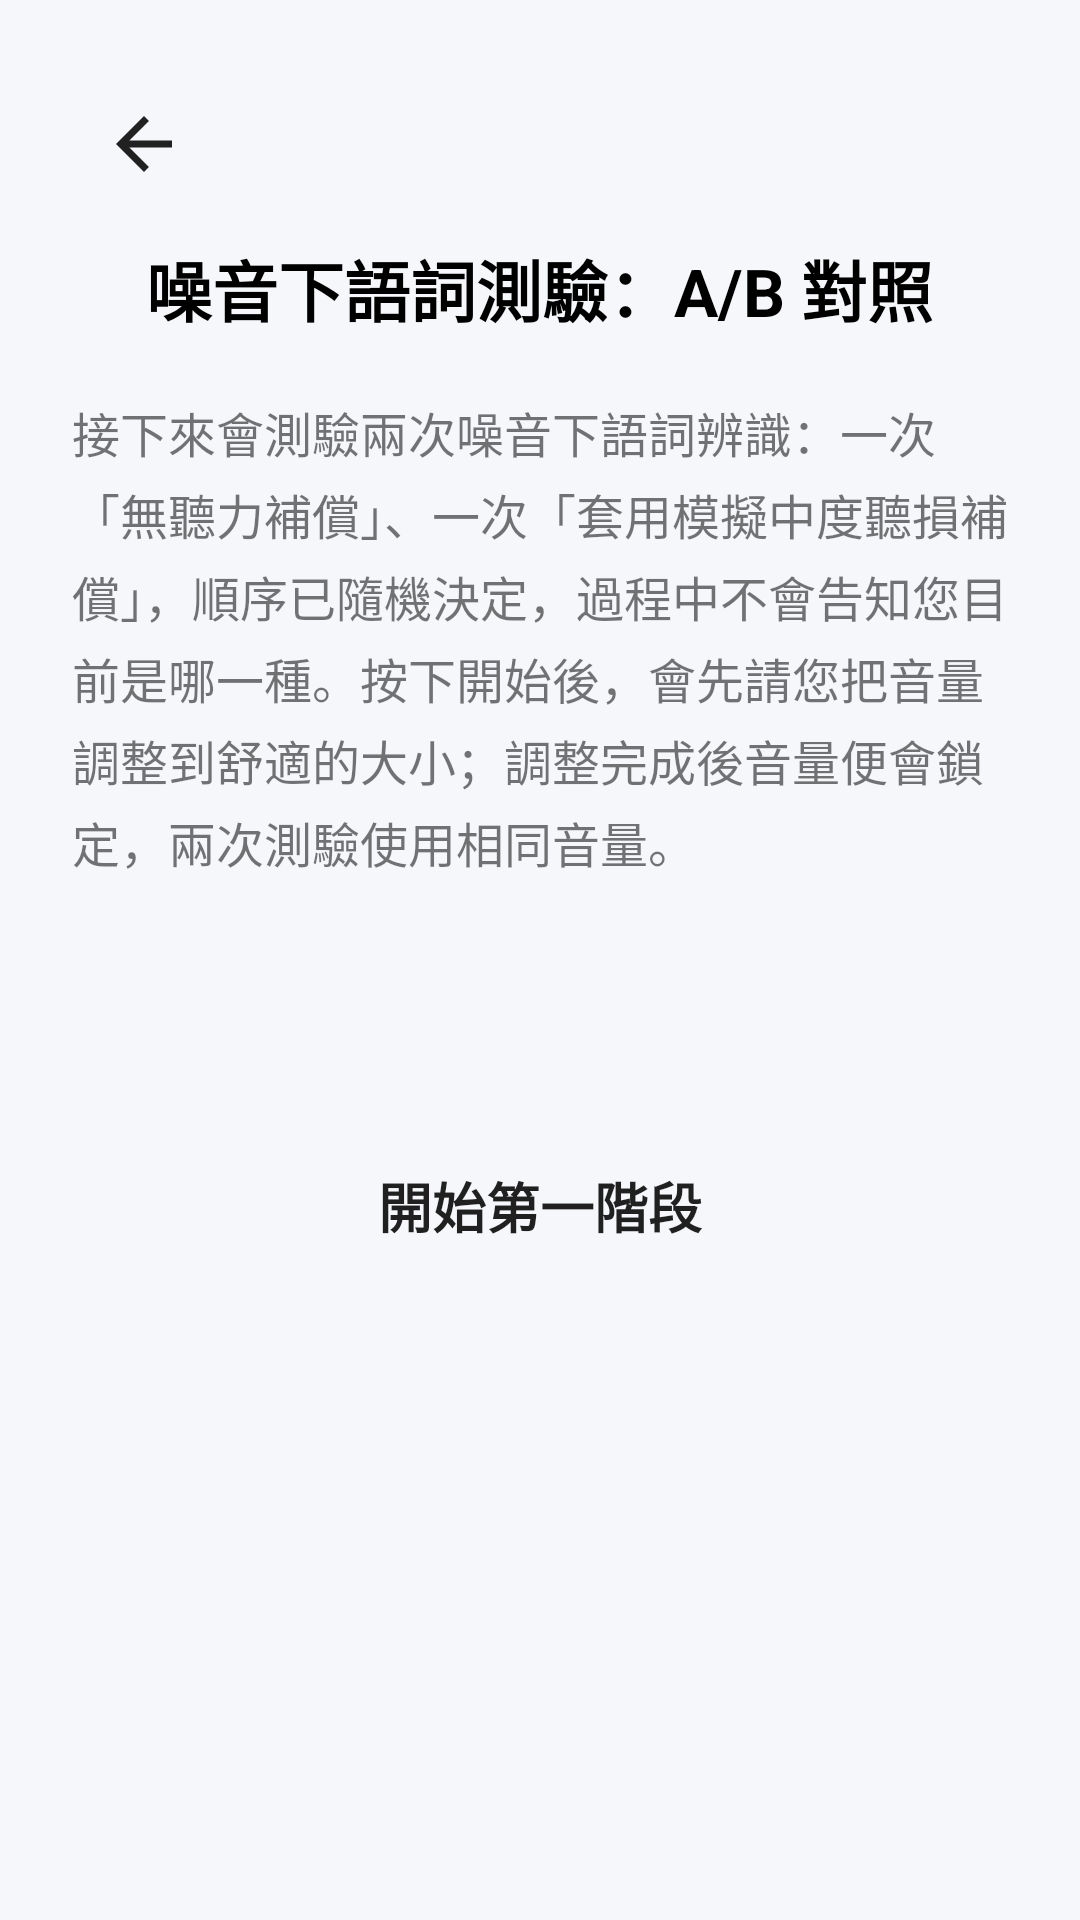

Icons on this 1080w x 1920h Android screen, each with the point to tap as (x,y):
結束並返回: (144,144)
